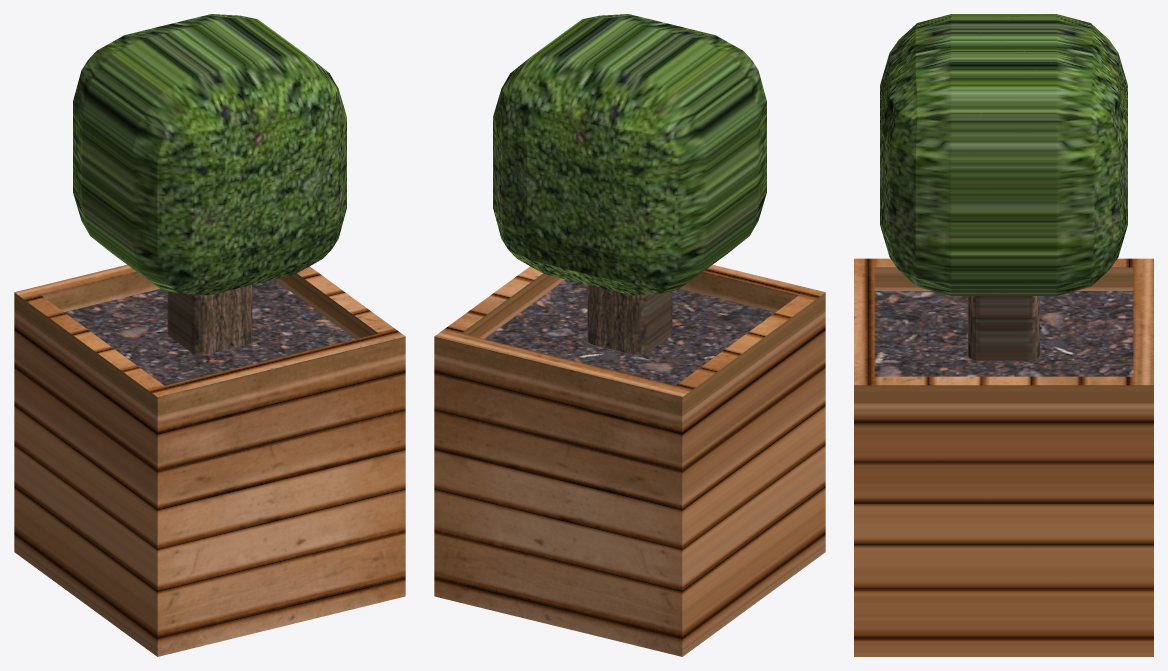
Rendered from plant.fbx.
3 views of the same model, side by side, from view 1: azimuth 30°, elevation 25°; view 2: azimuth 150°, elevation 25°; view 3: azimuth 270°, elevation 25° (orthographic). The views are drawn at different scales.
Parts seen in each view (by area): view 1: Cube, Cube.001; view 2: Cube, Cube.001; view 3: Cube, Cube.001.
Part boxes in pixels (x1=…): Cube: x1=14, y1=264, x2=405, y2=656; Cube.001: x1=73, y1=14, x2=346, y2=354; Cube: x1=434, y1=264, x2=825, y2=656; Cube.001: x1=493, y1=14, x2=766, y2=354; Cube: x1=854, y1=258, x2=1153, y2=656; Cube.001: x1=880, y1=14, x2=1127, y2=360.
Size of the model in its own units: 200 by 406 by 200.
Materials: 1 (1 with a texture image).
